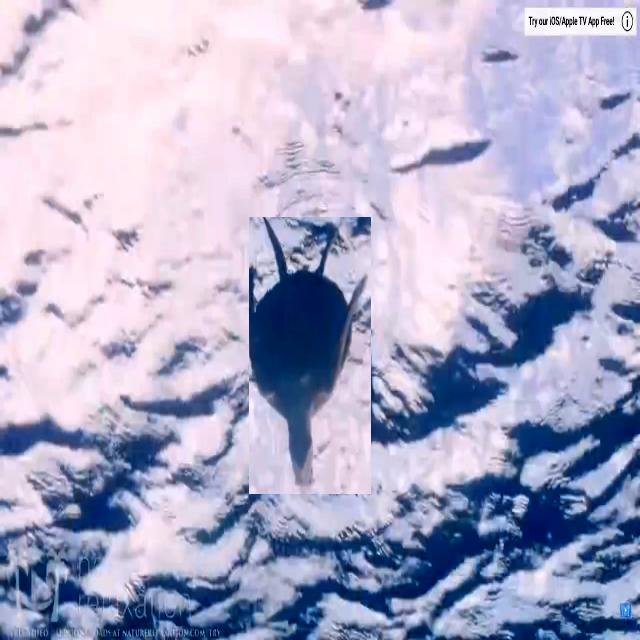Sea turtle: (249, 217, 371, 494)
